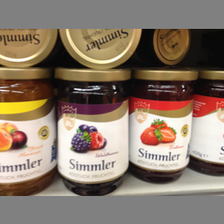jam: (54, 68, 133, 196), (129, 68, 199, 184), (1, 67, 57, 195), (190, 68, 224, 177)
